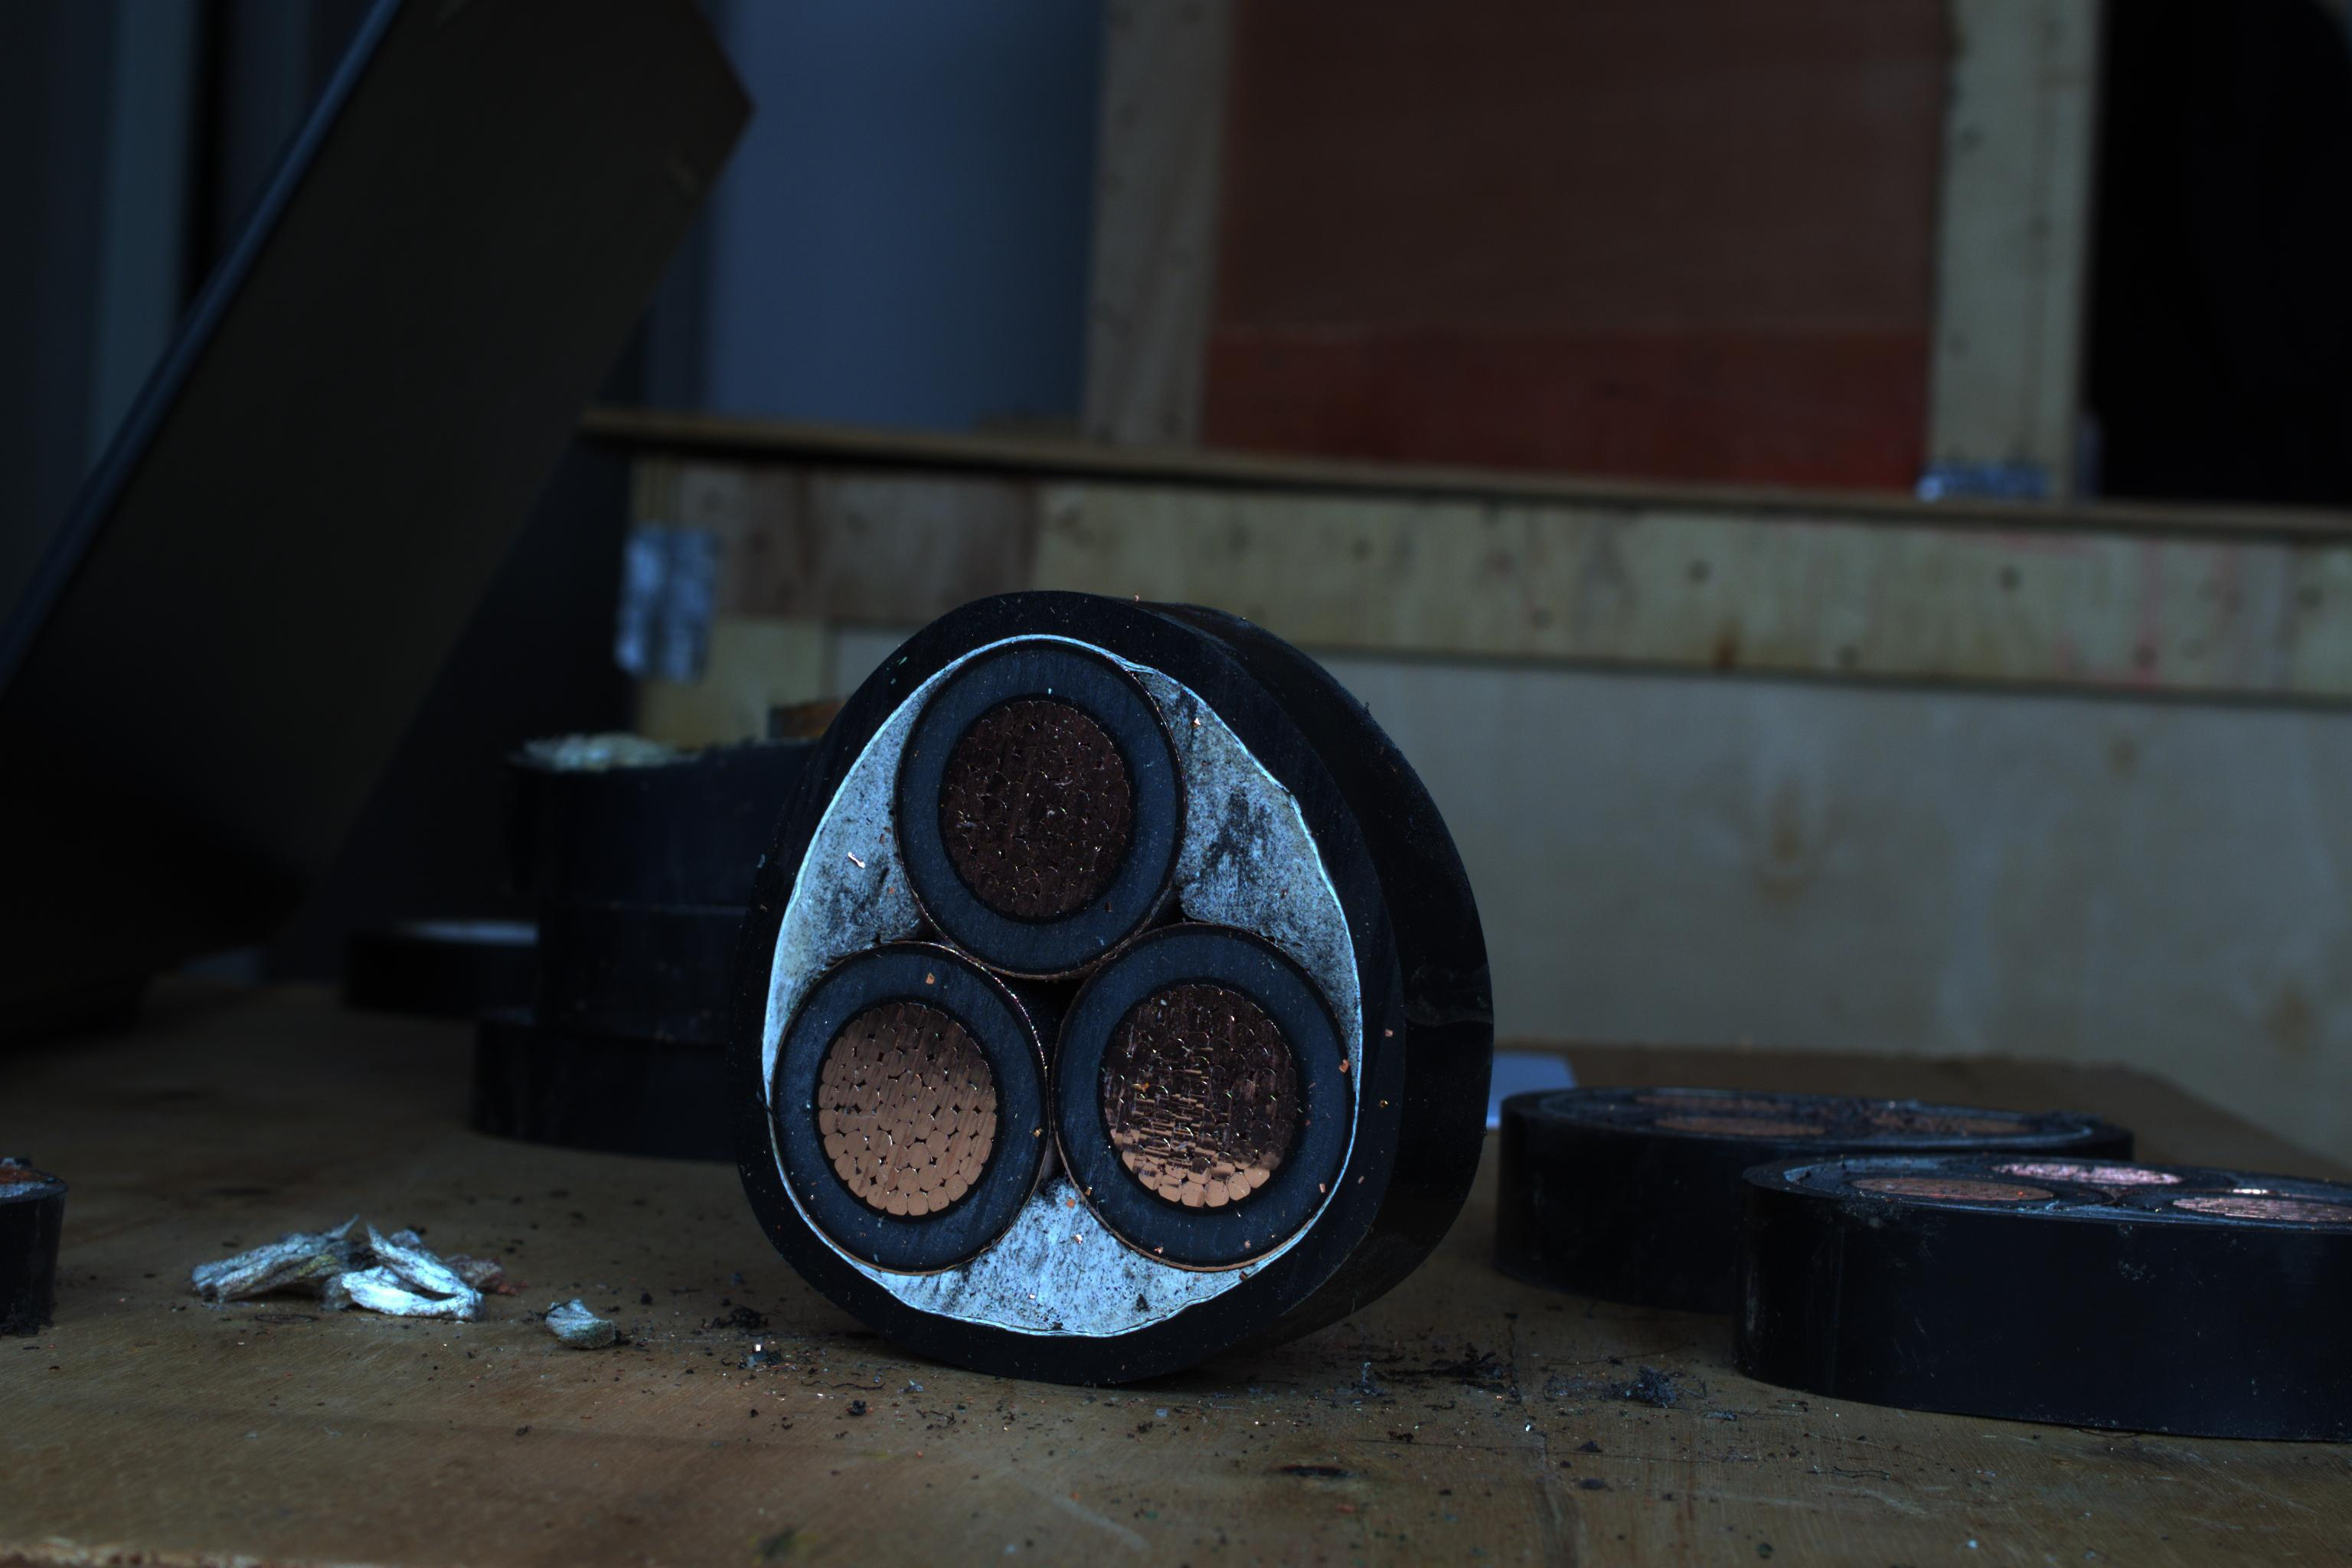ZA_YJV_8.7_10kV_3x400: (724, 586, 1389, 1368)
